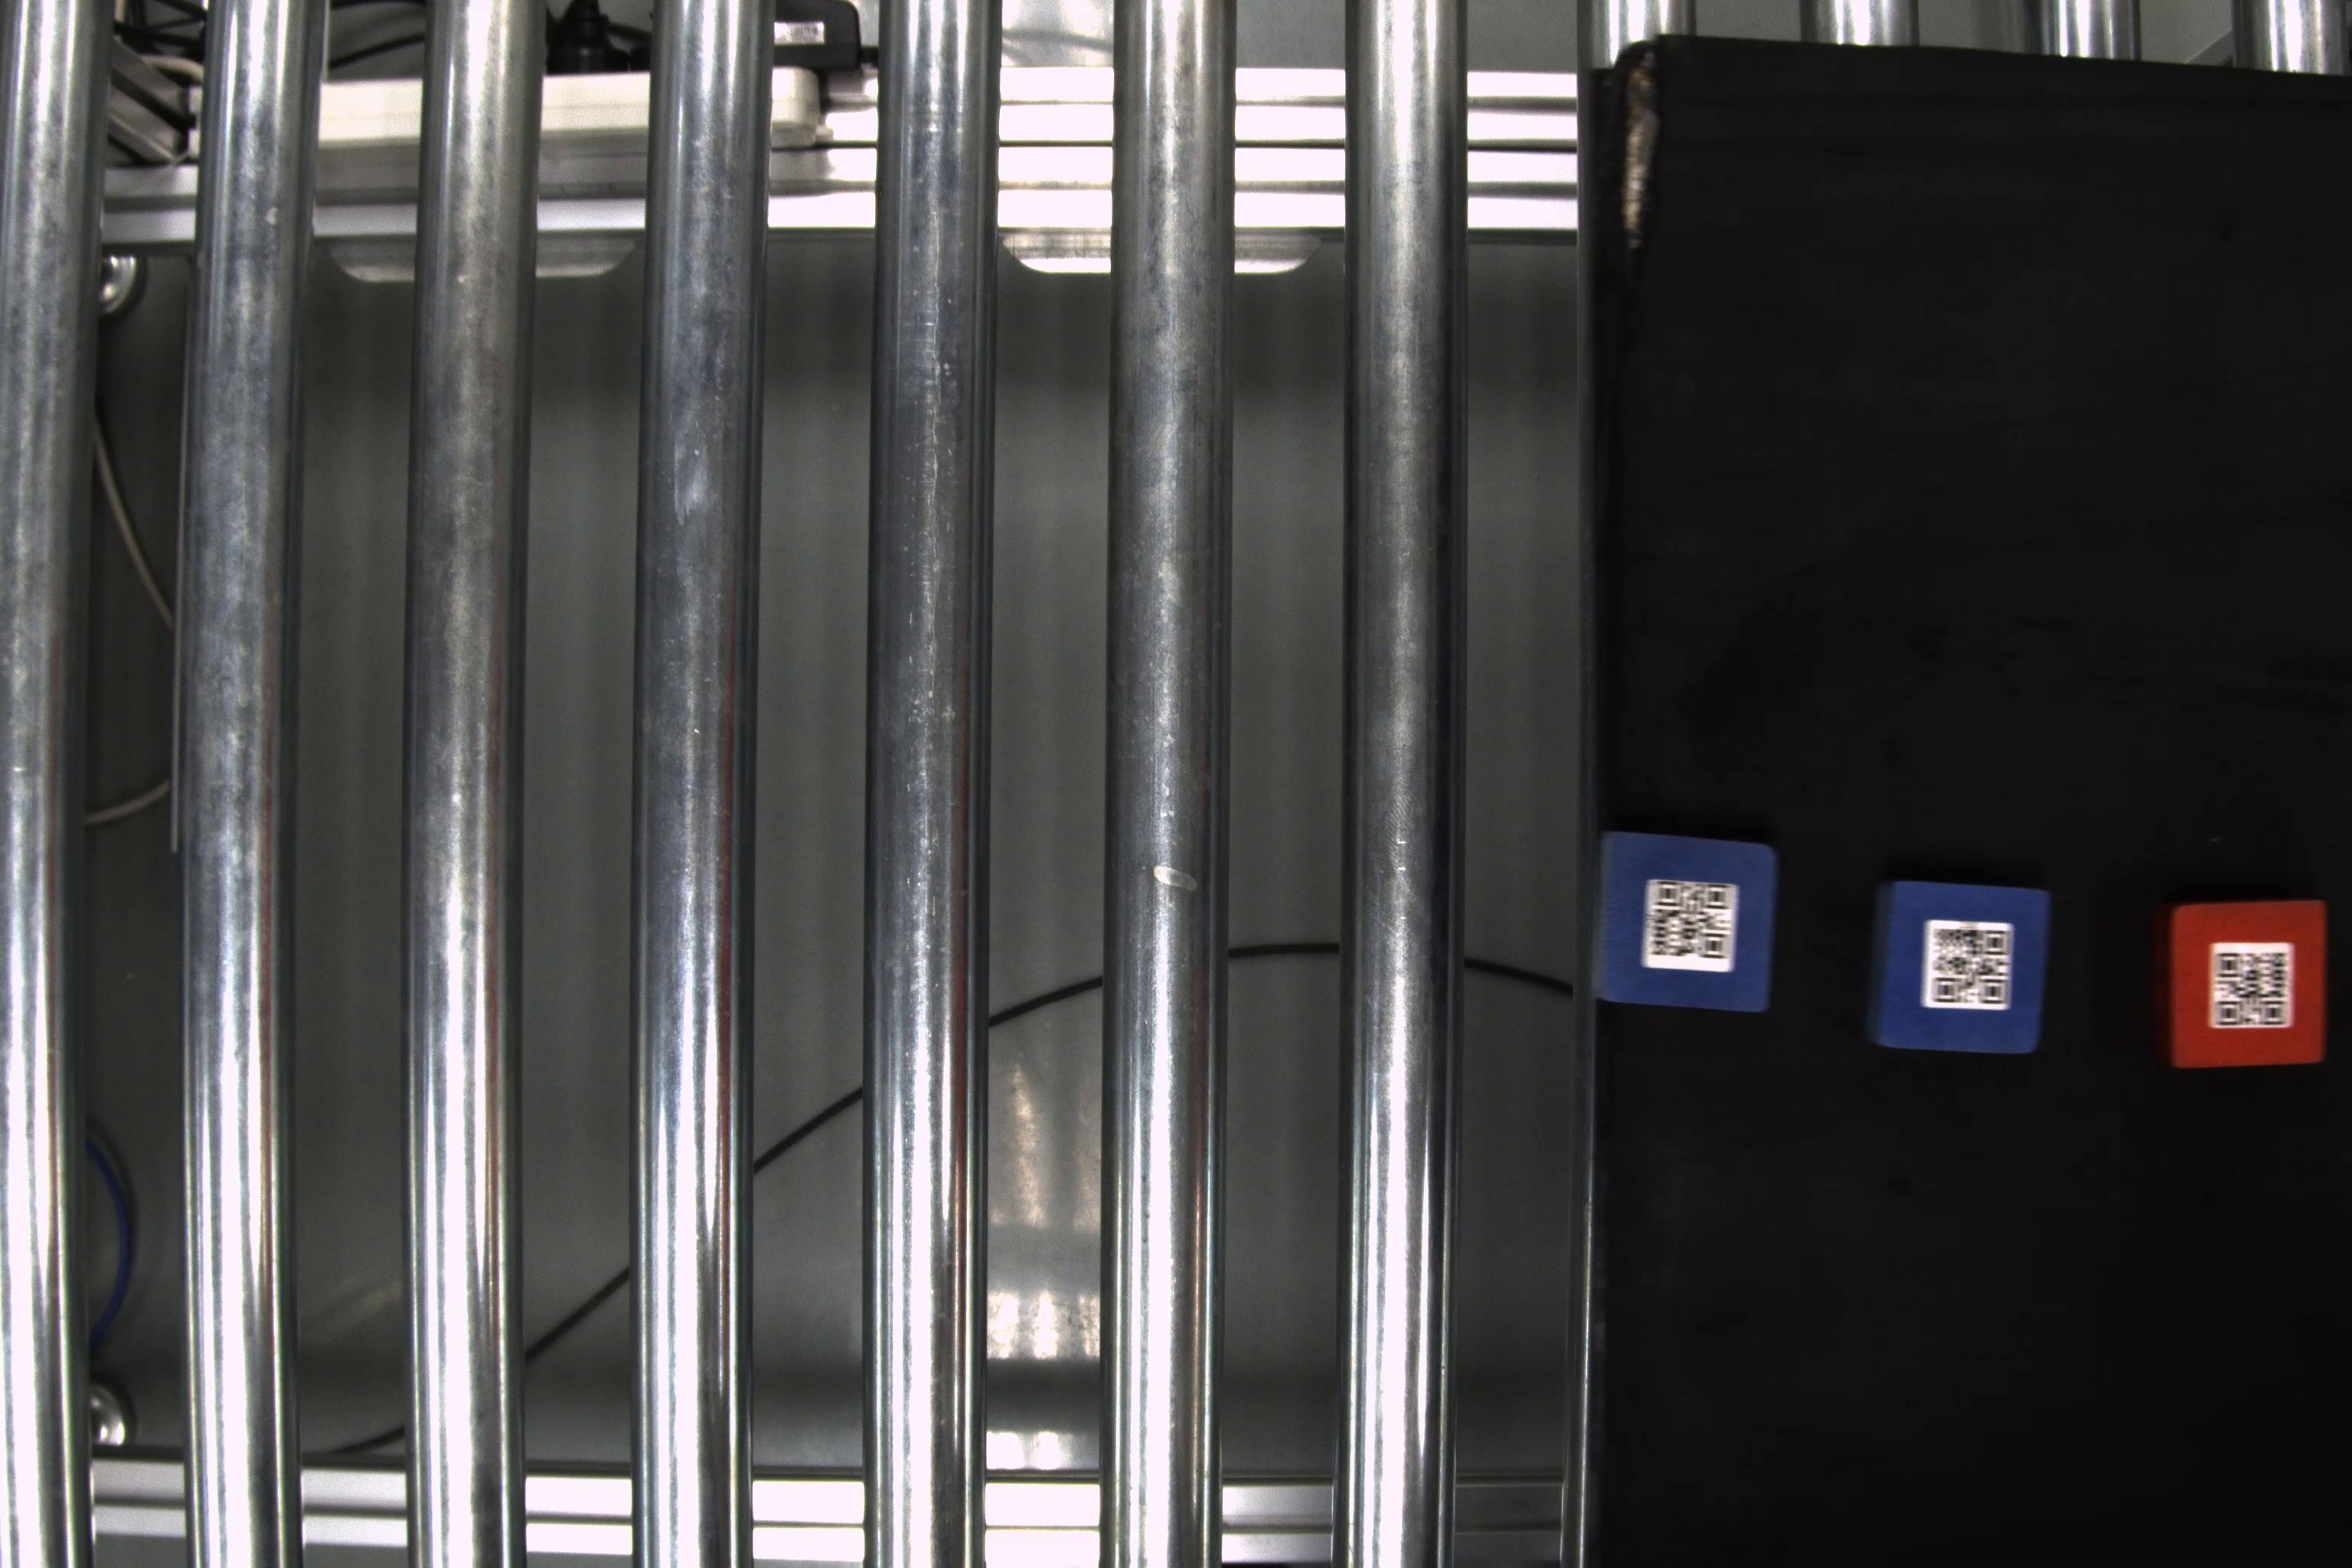wood: (1589, 826, 1778, 1017), (1867, 873, 2061, 1059), (2154, 885, 2331, 1074)
